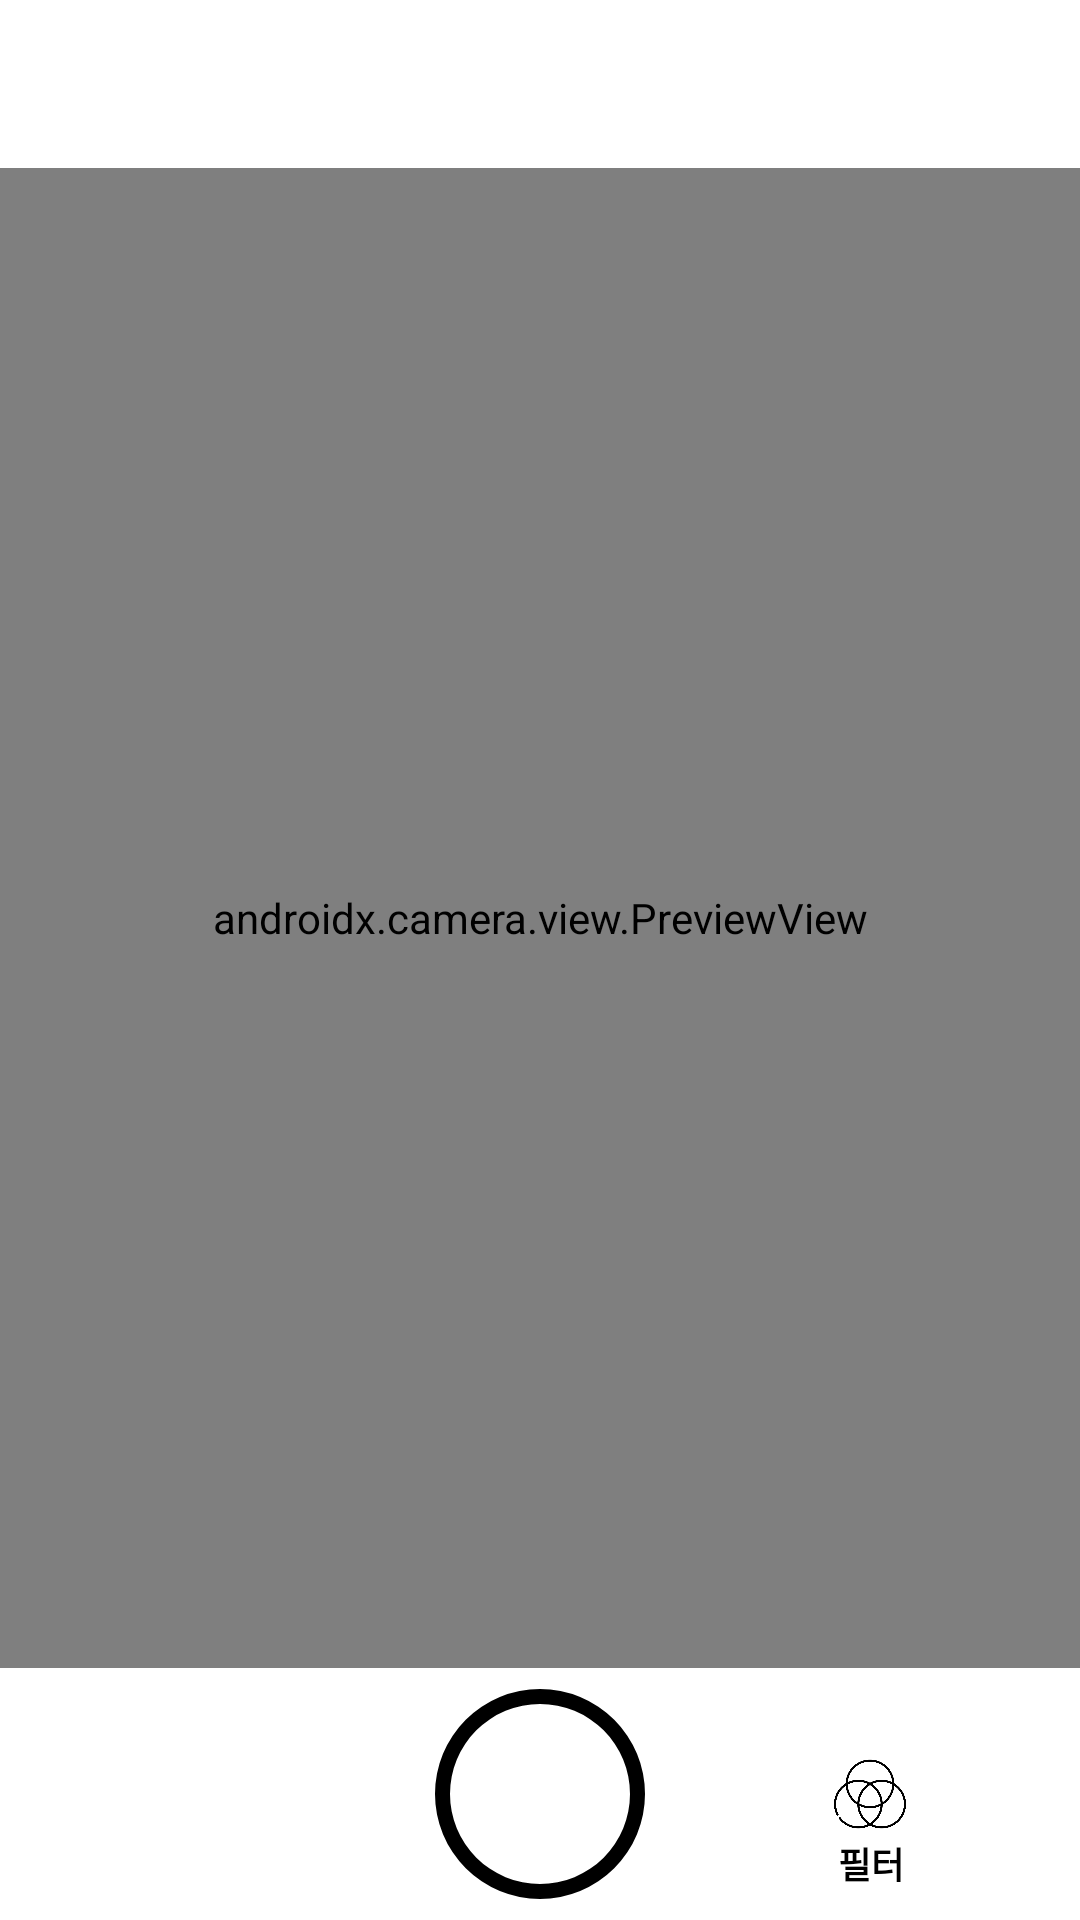

Locate icon controls on the screen. Image size 1080*1920, boxes as bbox=[x1, y1, x2, y2].
capture: bbox=[435, 1689, 645, 1899]
